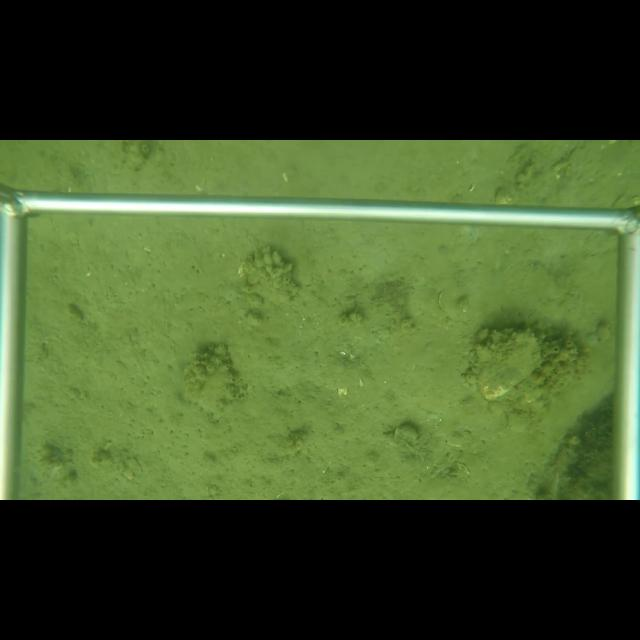Oyster-Closed: (473, 326, 542, 402)
